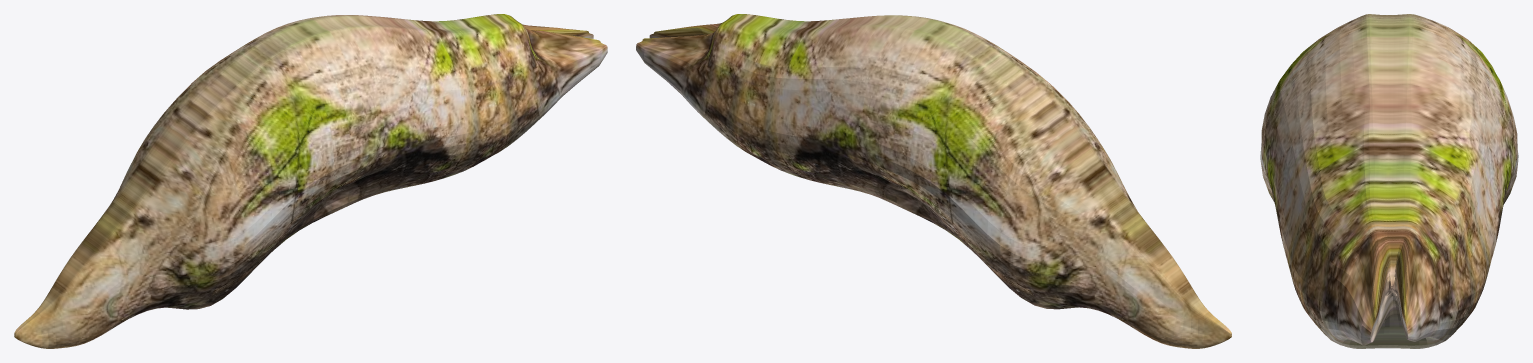
Rendered from Pupa Papilio Memnon dengan Tanduk.fbx.
3 renders of one model, left to right at view 1: azimuth 30°, elevation 25°; view 2: azimuth 150°, elevation 25°; view 3: azimuth 270°, elevation 25°, orthographic. The views are drawn at different scales.
Parts seen in each view (by area): view 1: Cube; view 2: Cube; view 3: Cube.
Part boxes in pixels (left/top/right/bottom): Cube: left=14, top=14, right=607, bottom=348; Cube: left=636, top=14, right=1231, bottom=348; Cube: left=1260, top=14, right=1518, bottom=348.
Size of the model in its own units: 336 by 94.75 by 139.
